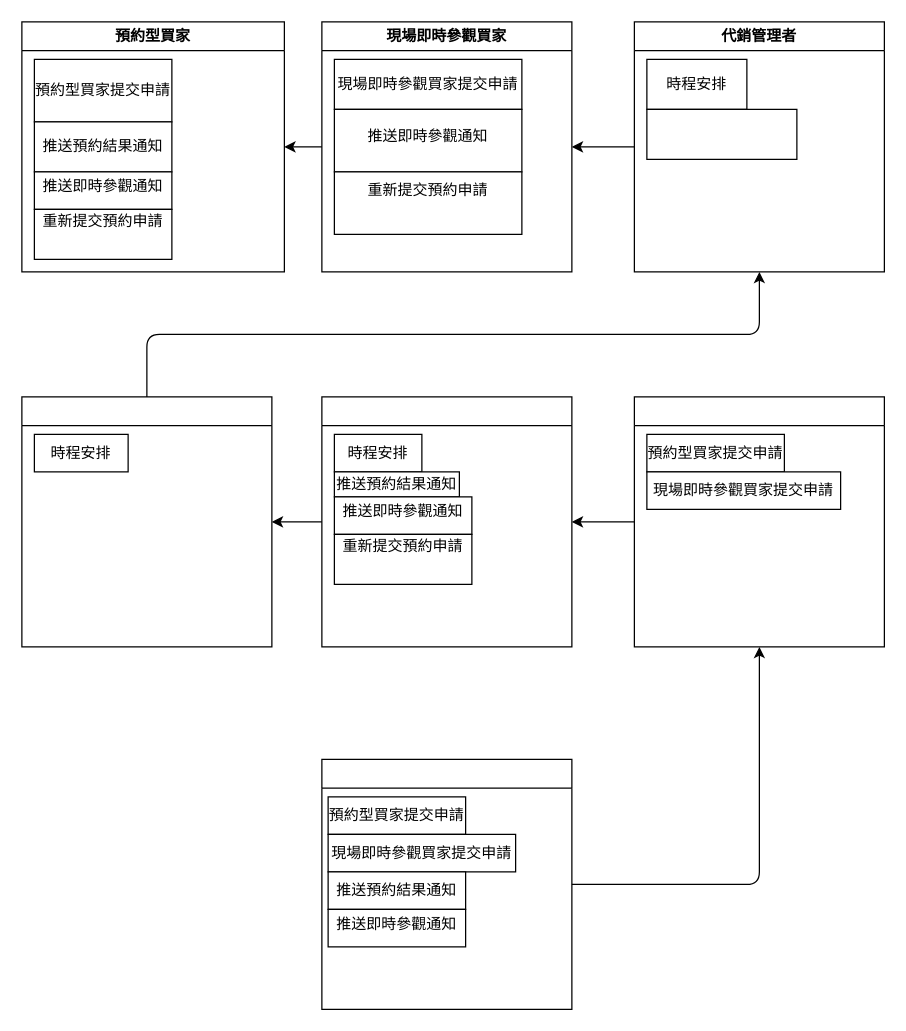
Some shapes in this 906 by 1031 pixel diagram are drawn without their labels. The box of each missing label's shape, as (x1, y1, x2, y2) in pixels:
Line 用戶: (321, 758, 572, 1009)
接待人員: (21, 396, 272, 647)
管理者審核申請: (646, 108, 797, 159)
系統訪談人員: (633, 396, 884, 647)
系統設計者/開發人員: (321, 396, 572, 647)
